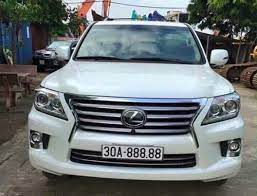Car number plates: (101, 144, 162, 161)
